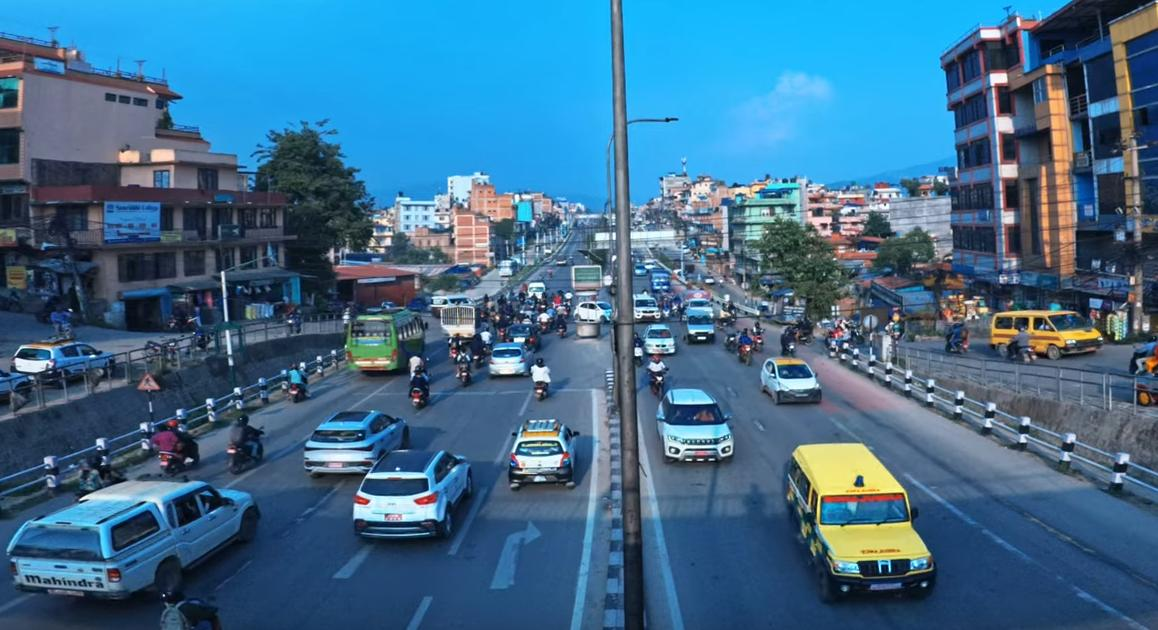ambulance: (779, 437, 945, 607)
bus: (342, 309, 429, 378)
car: (347, 442, 476, 542), (298, 407, 415, 482), (657, 388, 739, 470)
school_bus: (986, 307, 1103, 365)
taxi: (507, 415, 583, 494), (10, 334, 117, 383), (756, 356, 824, 409)
